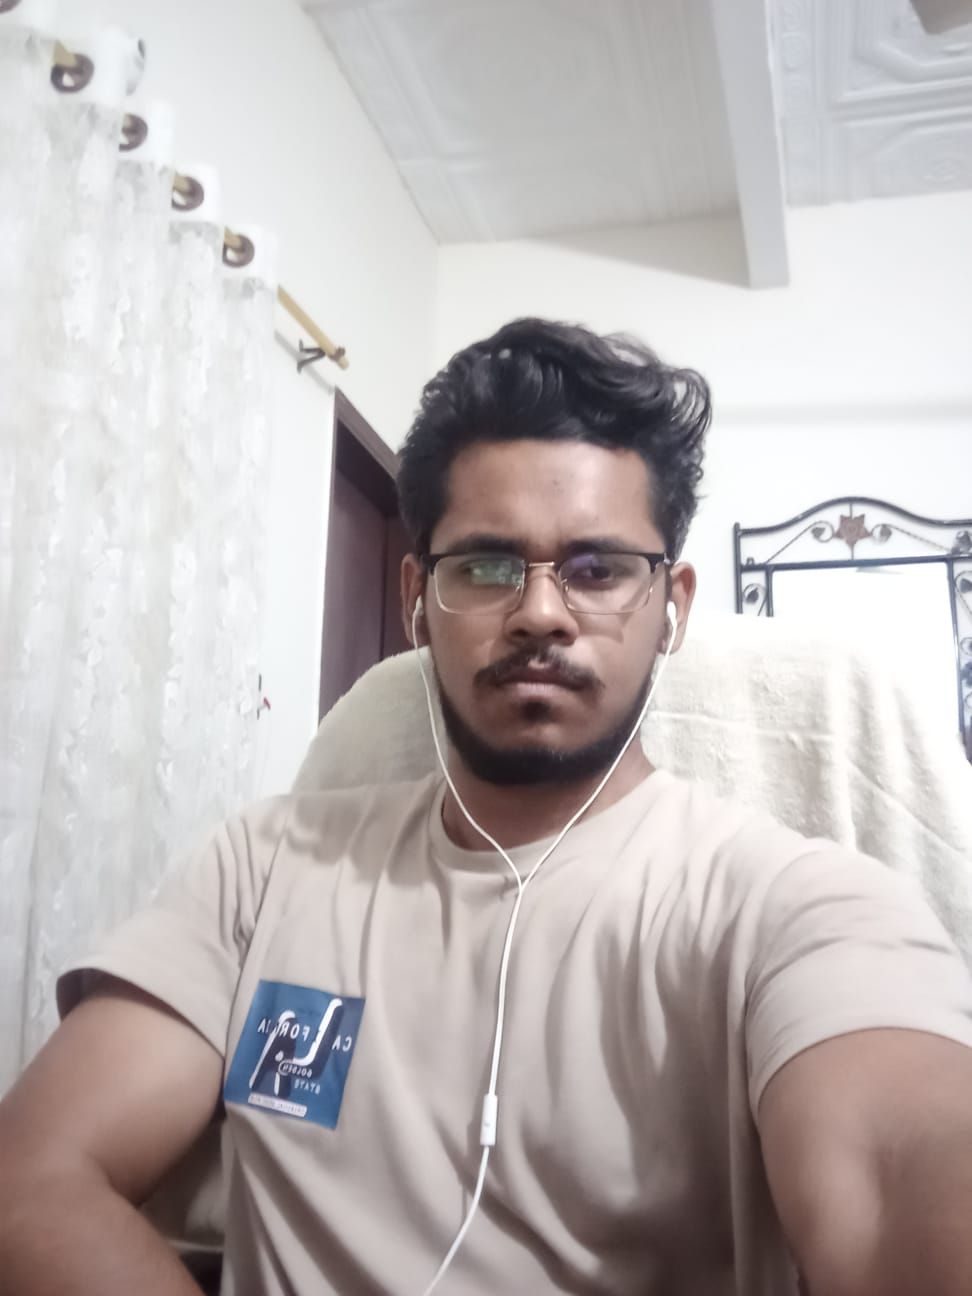NoMask: (438, 520, 652, 772)
